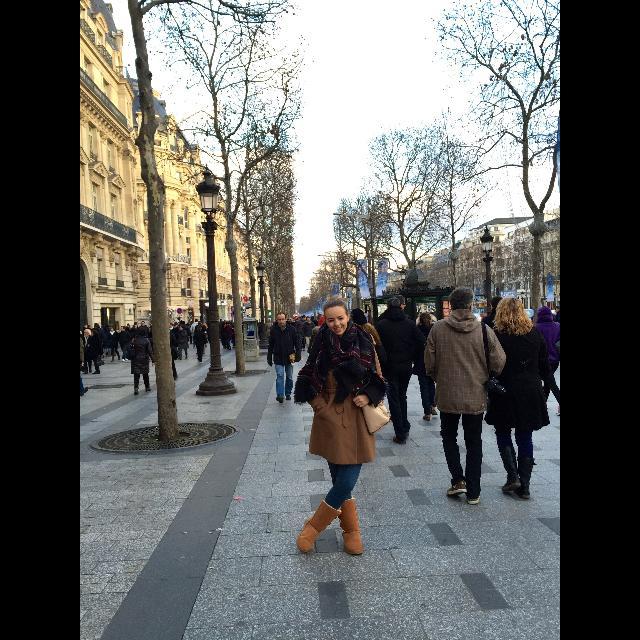head: (324, 300, 350, 336), (449, 286, 475, 316), (498, 298, 524, 326), (349, 312, 366, 331), (386, 298, 402, 314), (490, 296, 504, 312), (538, 306, 552, 322), (276, 312, 288, 326), (420, 312, 430, 326), (318, 317, 328, 327), (138, 327, 146, 335), (90, 331, 98, 337), (84, 329, 90, 336), (110, 326, 116, 332), (120, 326, 126, 332), (168, 322, 174, 328), (88, 324, 92, 330), (95, 324, 99, 330), (174, 322, 178, 328), (196, 326, 202, 330), (306, 316, 310, 322), (84, 324, 88, 328), (105, 324, 109, 328), (127, 324, 131, 328), (141, 322, 145, 326), (180, 326, 184, 330), (198, 322, 202, 326), (195, 319, 199, 323), (202, 322, 206, 326), (302, 316, 306, 320), (232, 324, 234, 328), (268, 318, 270, 322), (312, 316, 314, 320), (227, 324, 230, 326), (224, 324, 226, 326)
person: (295, 299, 391, 556), (424, 288, 508, 504), (482, 296, 552, 499), (372, 295, 428, 445), (338, 306, 386, 442), (480, 294, 516, 440), (410, 314, 442, 422), (267, 312, 299, 403), (308, 316, 336, 398), (131, 328, 153, 394), (89, 330, 105, 376), (302, 316, 316, 356), (194, 325, 208, 363), (107, 326, 121, 362), (306, 315, 320, 351), (91, 324, 103, 364), (296, 314, 308, 352), (83, 330, 93, 374), (118, 326, 130, 362), (138, 320, 150, 356), (178, 326, 190, 360), (195, 321, 207, 355), (102, 324, 112, 360), (167, 322, 176, 360), (172, 322, 180, 362), (190, 319, 200, 349), (124, 323, 132, 352), (224, 324, 232, 351), (200, 322, 208, 348), (266, 318, 274, 344), (82, 324, 88, 354), (86, 326, 92, 354), (222, 323, 228, 349), (232, 324, 236, 348)
